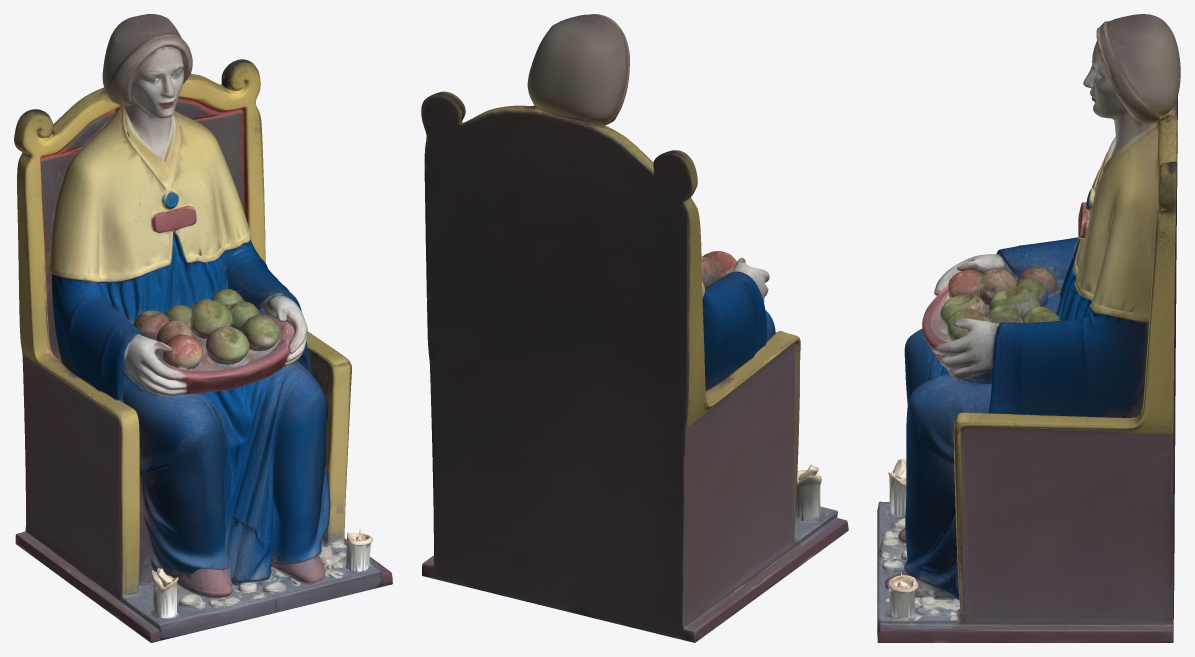
The model's file is nehalennia.glb.
The picture shows the model from 3 angles, left to right: view 1: azimuth 30°, elevation 25°; view 2: azimuth 150°, elevation 25°; view 3: azimuth 270°, elevation 25°; orthographic projection. The views are drawn at different scales.
Visible parts, largest first — view 1: node_0; view 2: node_0; view 3: node_0.
Part boxes in pixels (x1,y1,x2,y2): node_0: [14, 14, 392, 642]; node_0: [421, 14, 848, 642]; node_0: [877, 14, 1180, 642].
Size of the model in its own units: 0.4898 by 0.9826 by 0.4861.
Materials: 1 (1 with a texture image).
